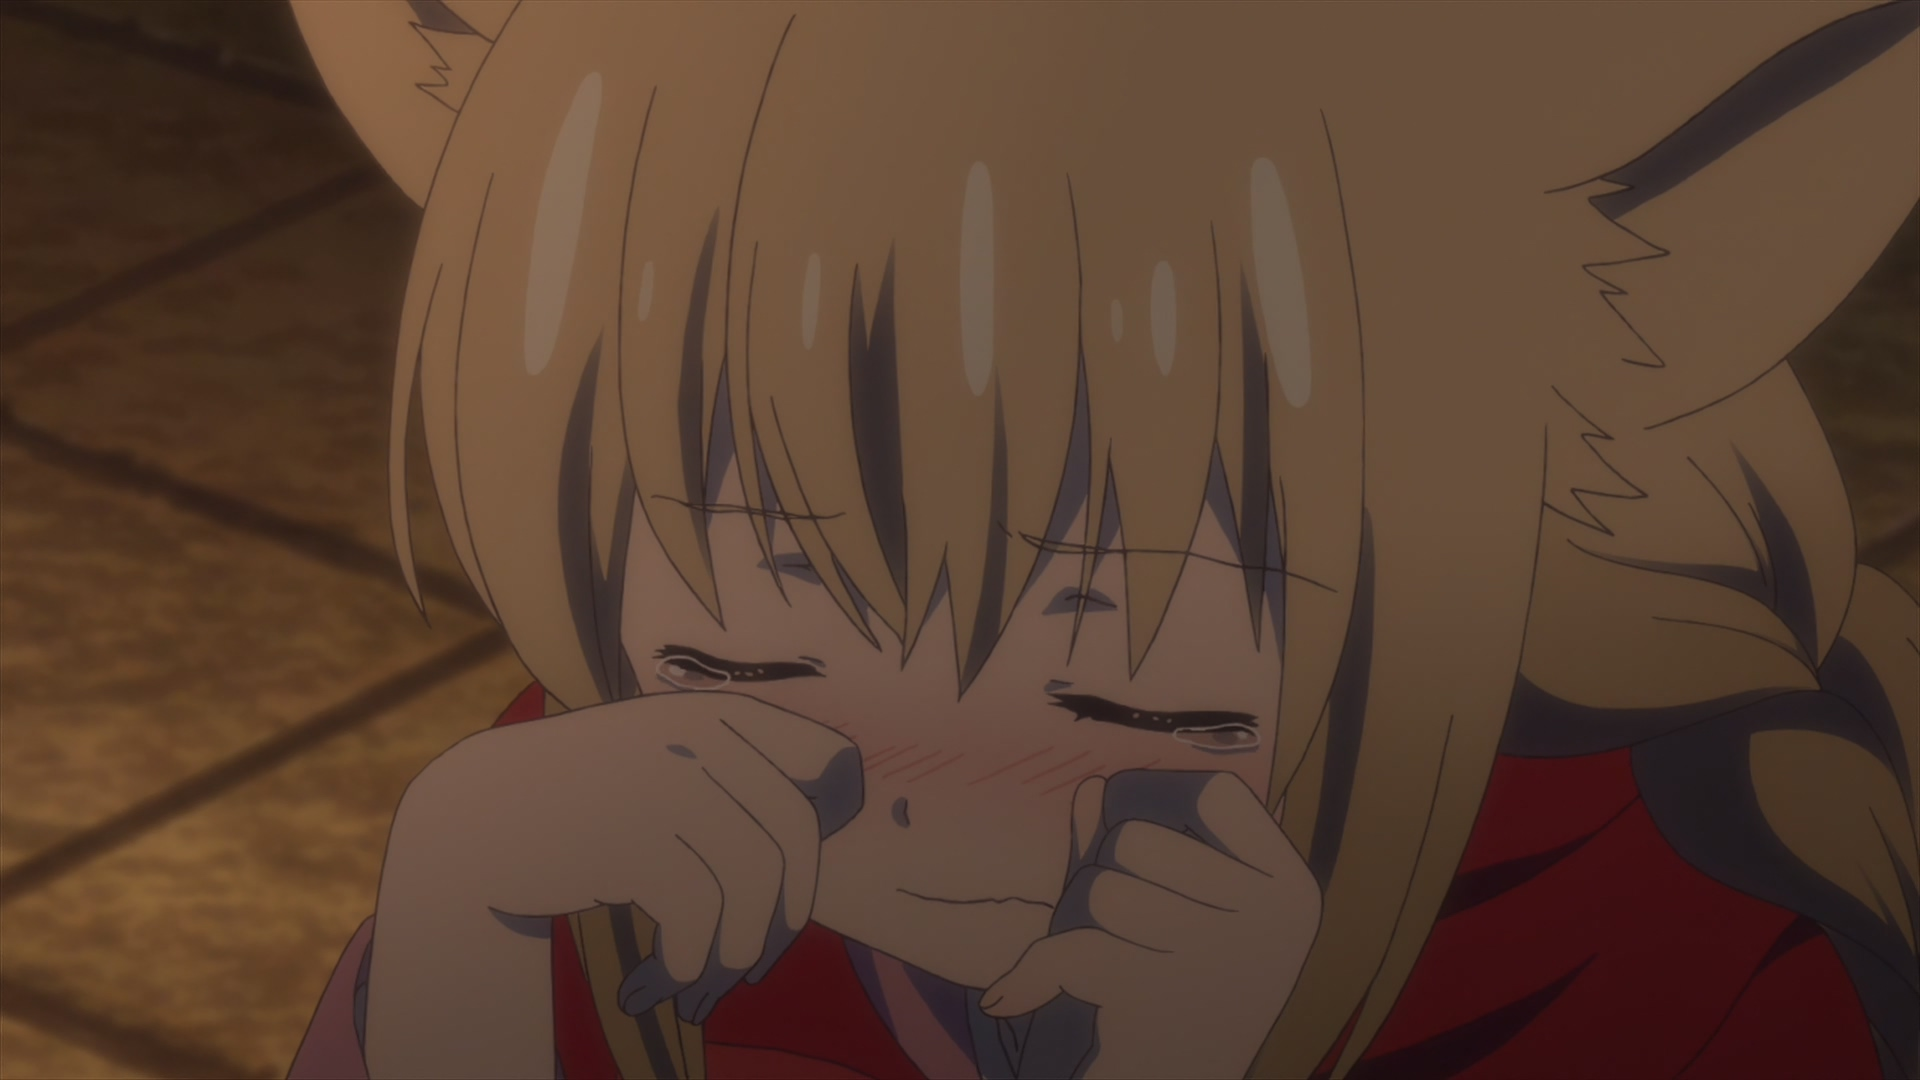柚: (282, 1, 1920, 1080)
